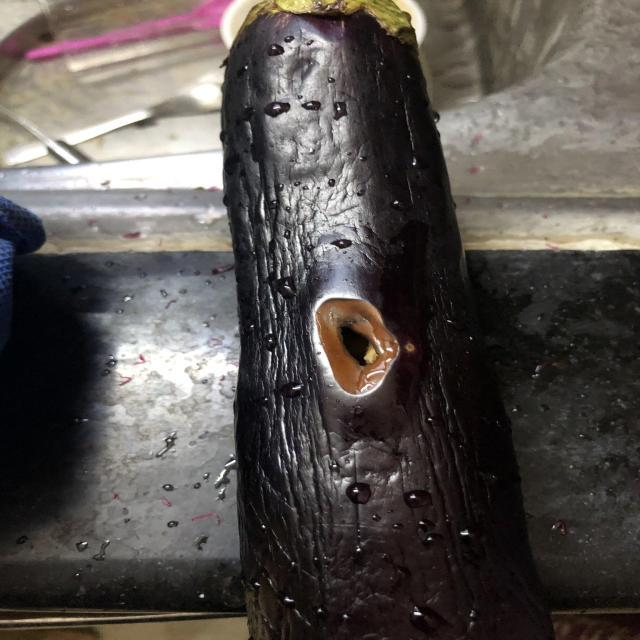eggplant: (218, 0, 557, 638)
